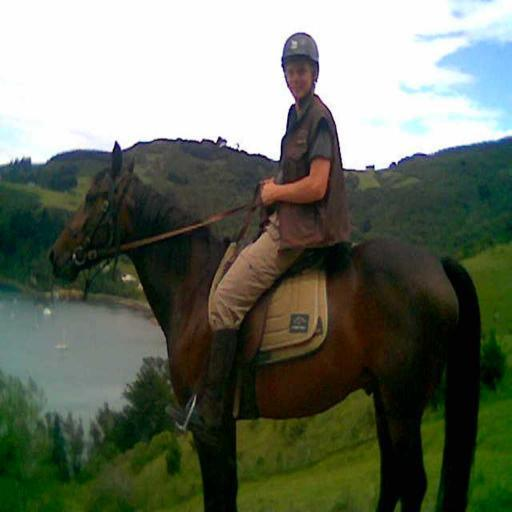horse: (47, 138, 481, 512)
